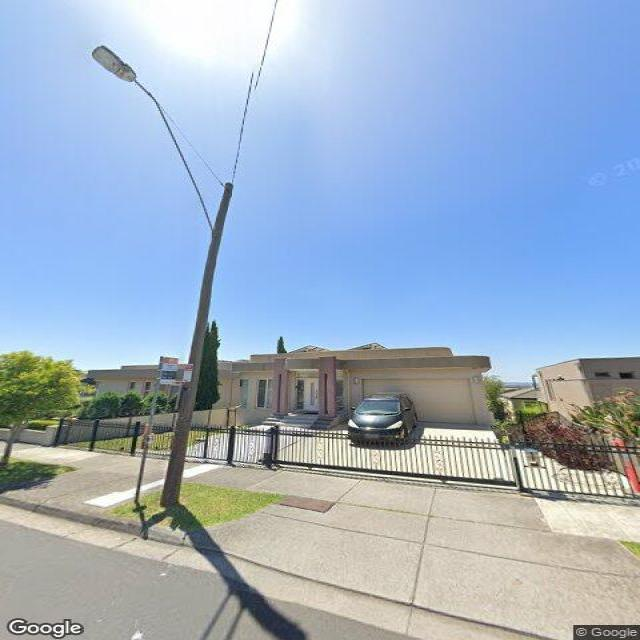streetlight: (91, 44, 214, 236)
timber-pole: (159, 181, 235, 508)
